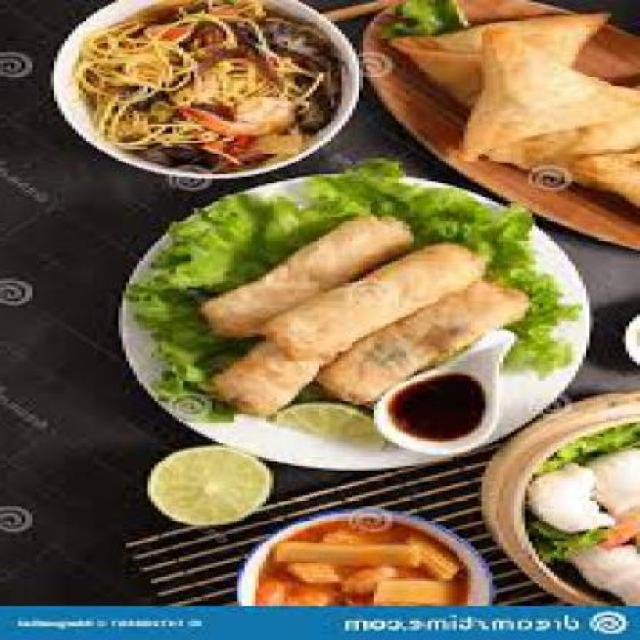spring rolls: (176, 209, 539, 416)
